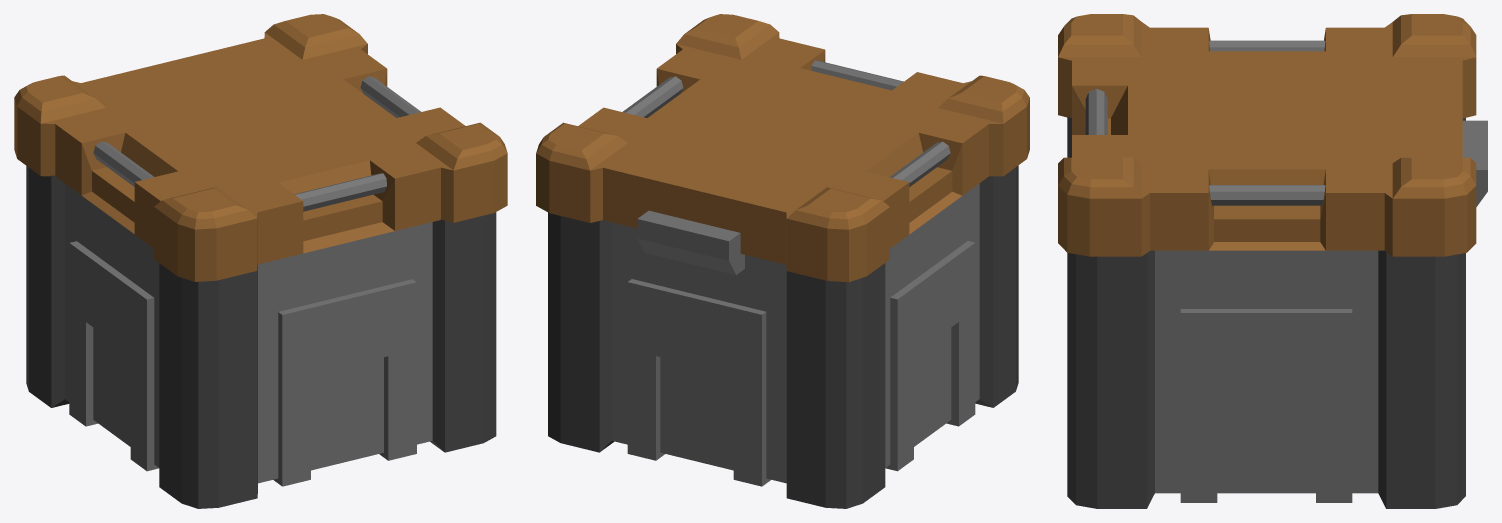
File: Lootbox.glb
3 views of the same model, side by side, from view 1: azimuth 30°, elevation 25°; view 2: azimuth 150°, elevation 25°; view 3: azimuth 270°, elevation 25° (orthographic). The views are drawn at different scales.
Parts seen in each view (by area): view 1: Lootbox; view 2: Lootbox; view 3: Lootbox.
Boxes of the visible parts, x1,y1,x2,y2 form: Lootbox: (14, 14, 507, 508); Lootbox: (536, 14, 1029, 508); Lootbox: (1058, 14, 1487, 508).
Bounding box in the file's own units: 0.4144 × 0.3584 × 0.4257.
